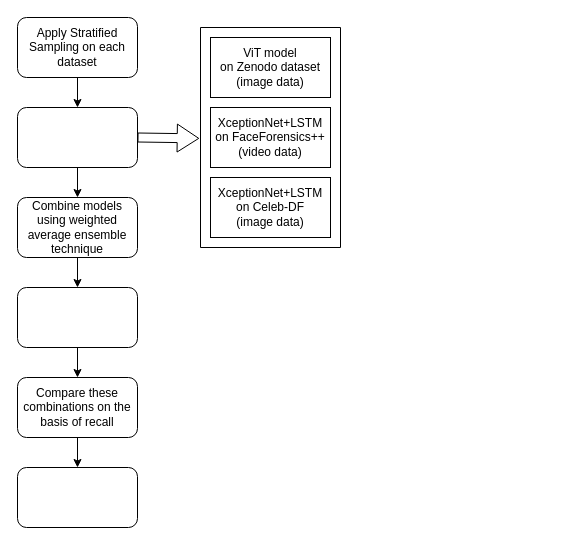
Some shapes in this 565 by 545 pixel diagram are drawn without their labels. Each missing label, with the centre of its shape:
Evaluate the best combination with entire test dataset: point (77, 497)
Train a model on each dataset: point (77, 137)
Tweak the weights and choose best three combinations: point (77, 317)
